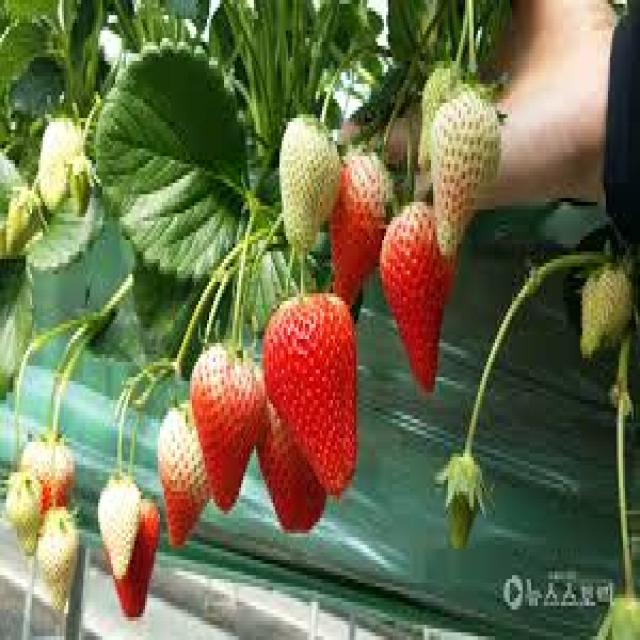ripe: (256, 278, 372, 519), (371, 185, 470, 403), (182, 295, 263, 512)
unripe: (421, 90, 510, 260), (273, 99, 345, 265), (153, 388, 215, 560), (89, 470, 144, 585), (36, 492, 82, 624)
